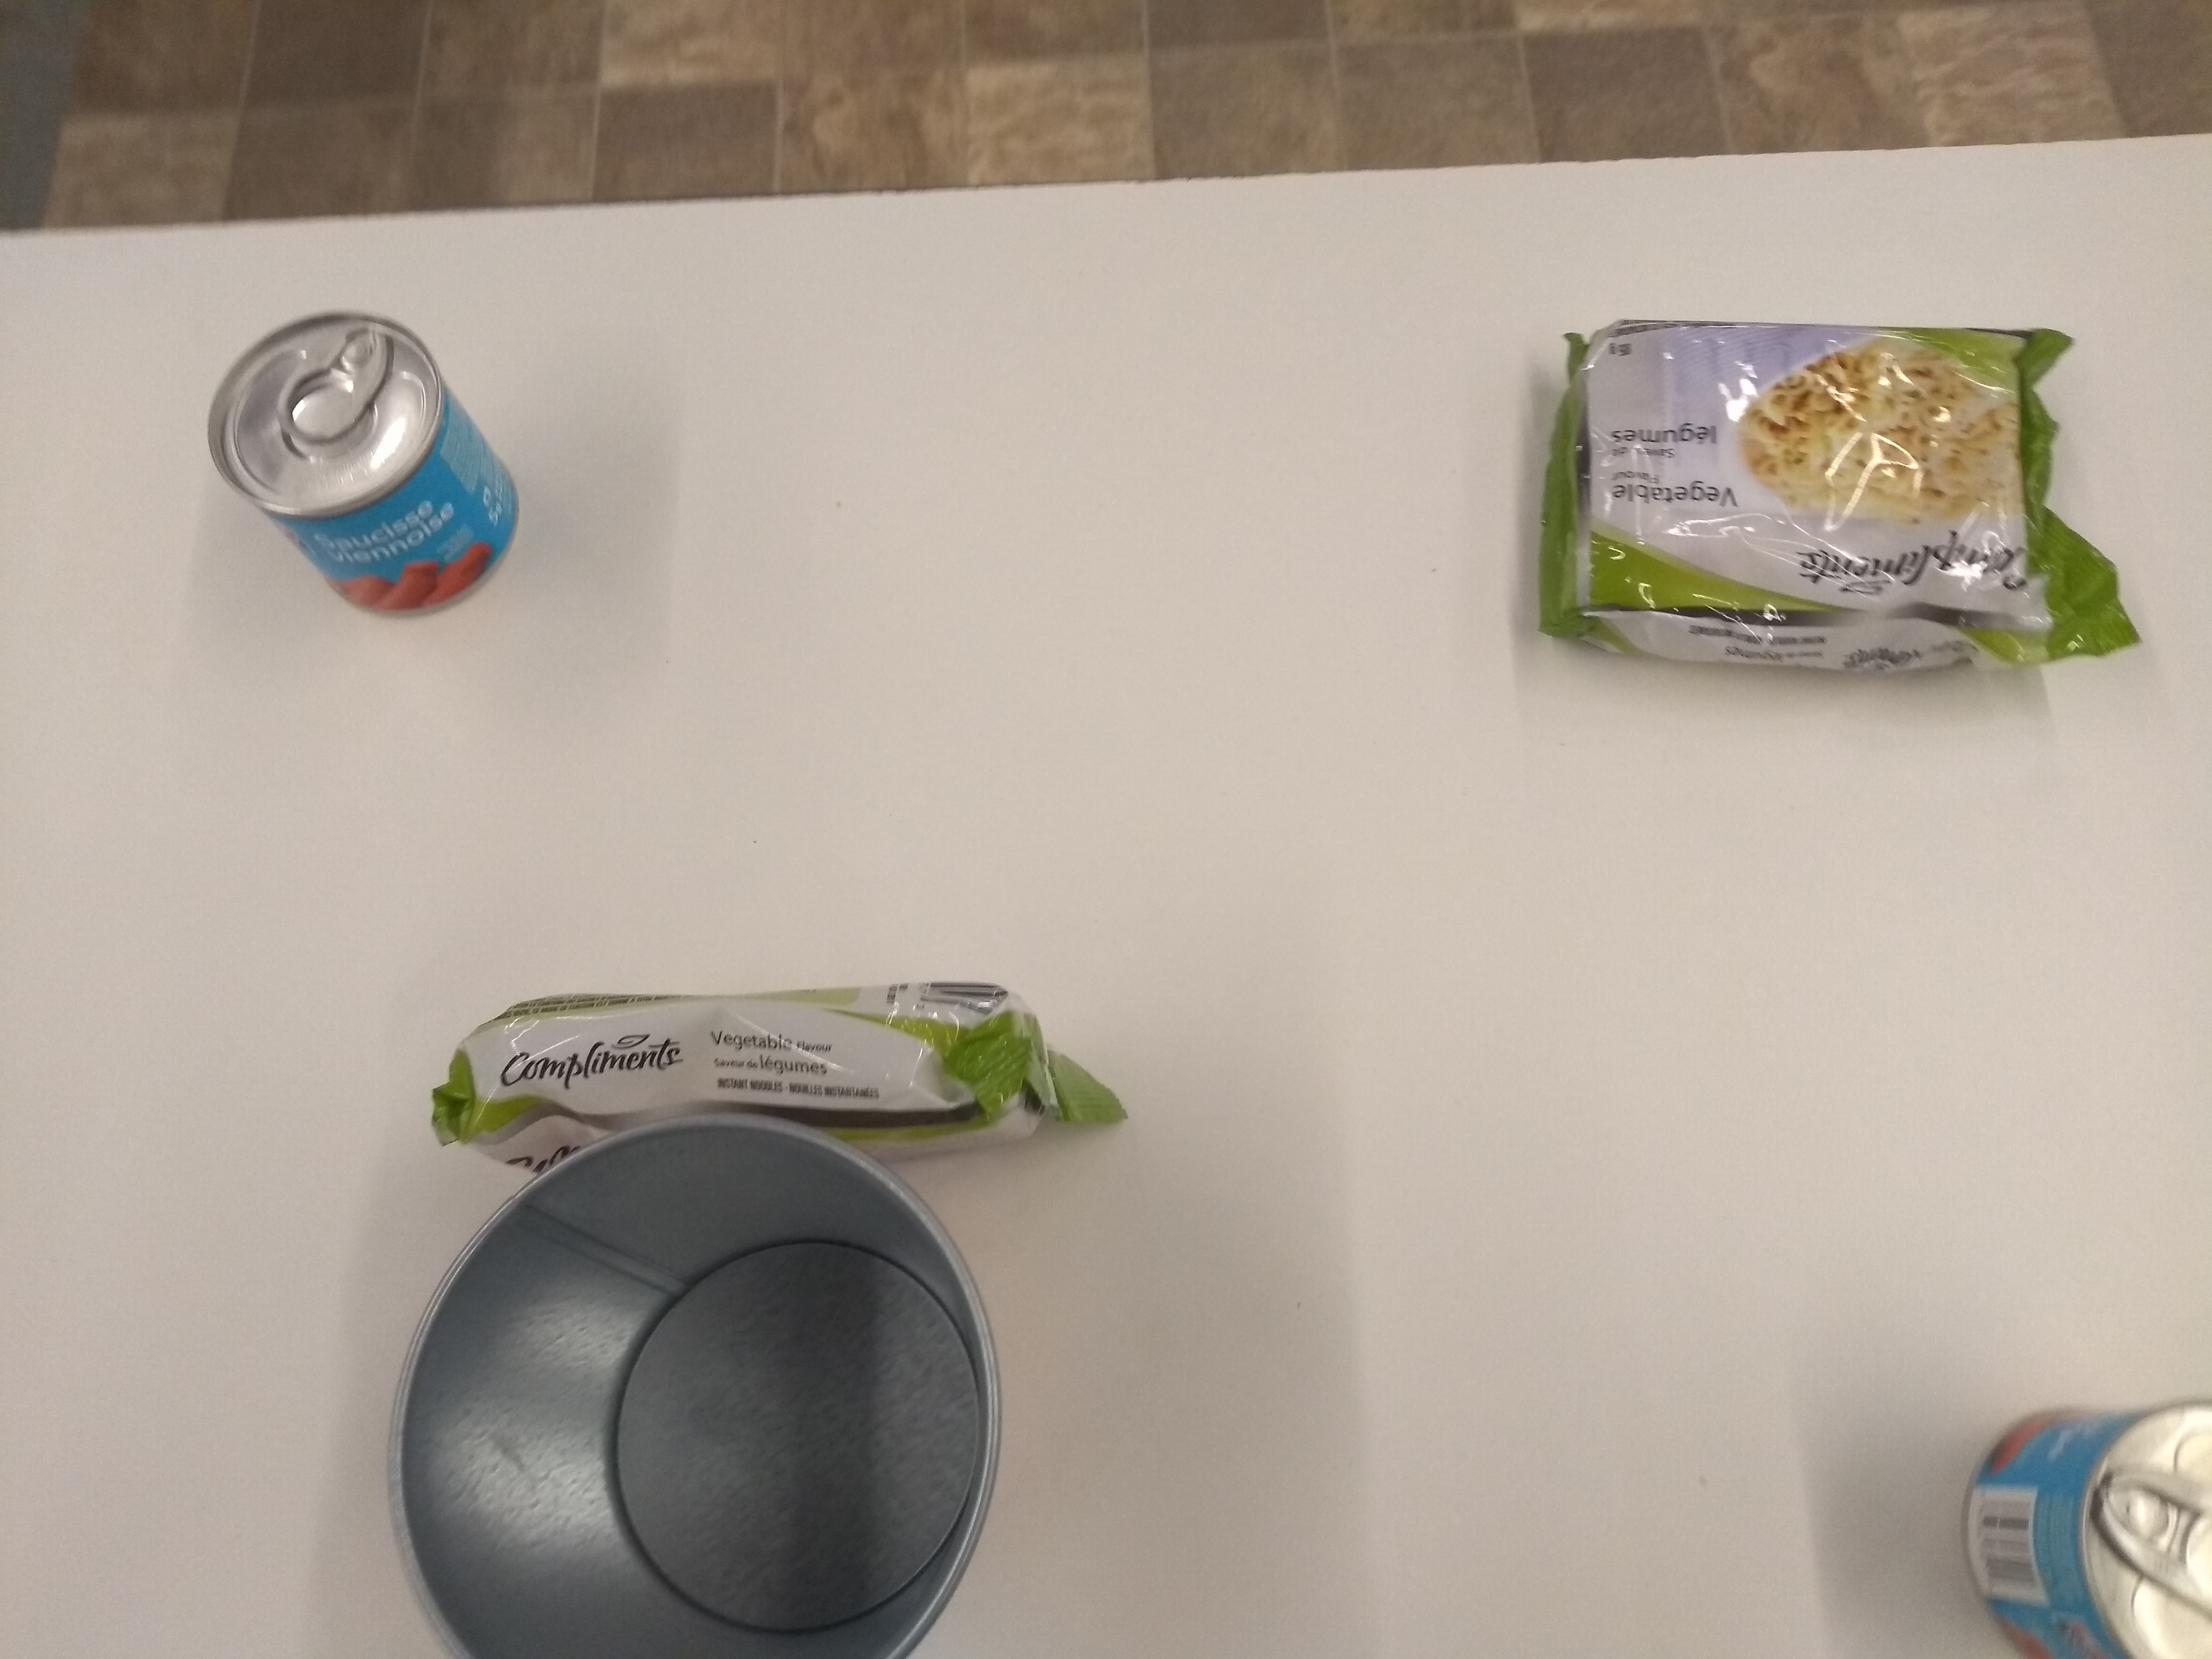noodles: (1524, 303, 2151, 681), (420, 974, 1130, 1166)
sausages: (200, 296, 533, 634)
